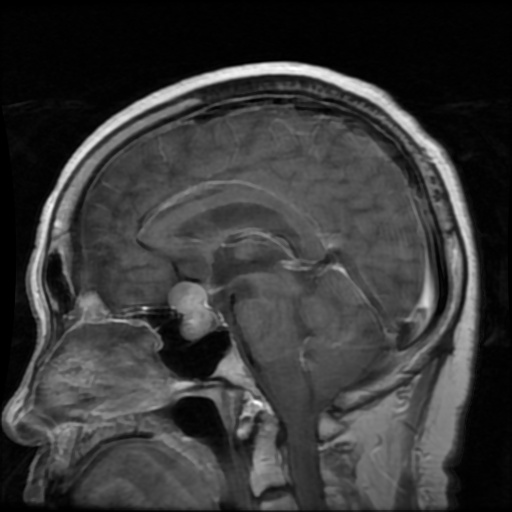pituitary: (167, 281, 216, 337)
